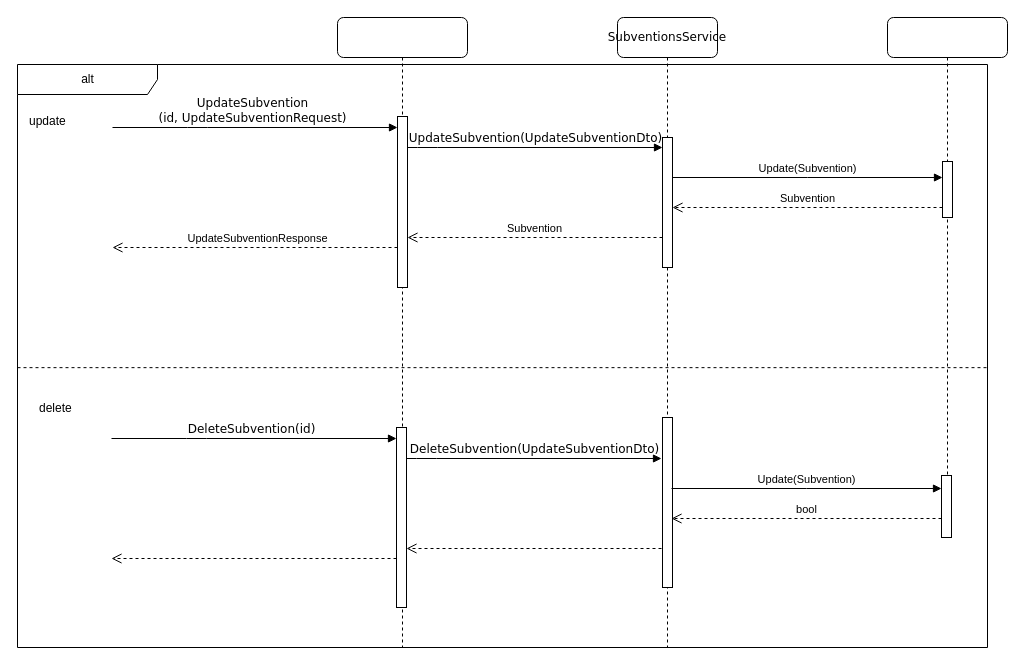
The diagram is 1034 pixels wide and 665 high, and some of its shapes have lost their labels. Here are the shapes that lost their labels. From the top down, the box of each, then its label:
(886, 16, 1008, 498): SubventionsRepository
(336, 16, 468, 648): SubventionsController
